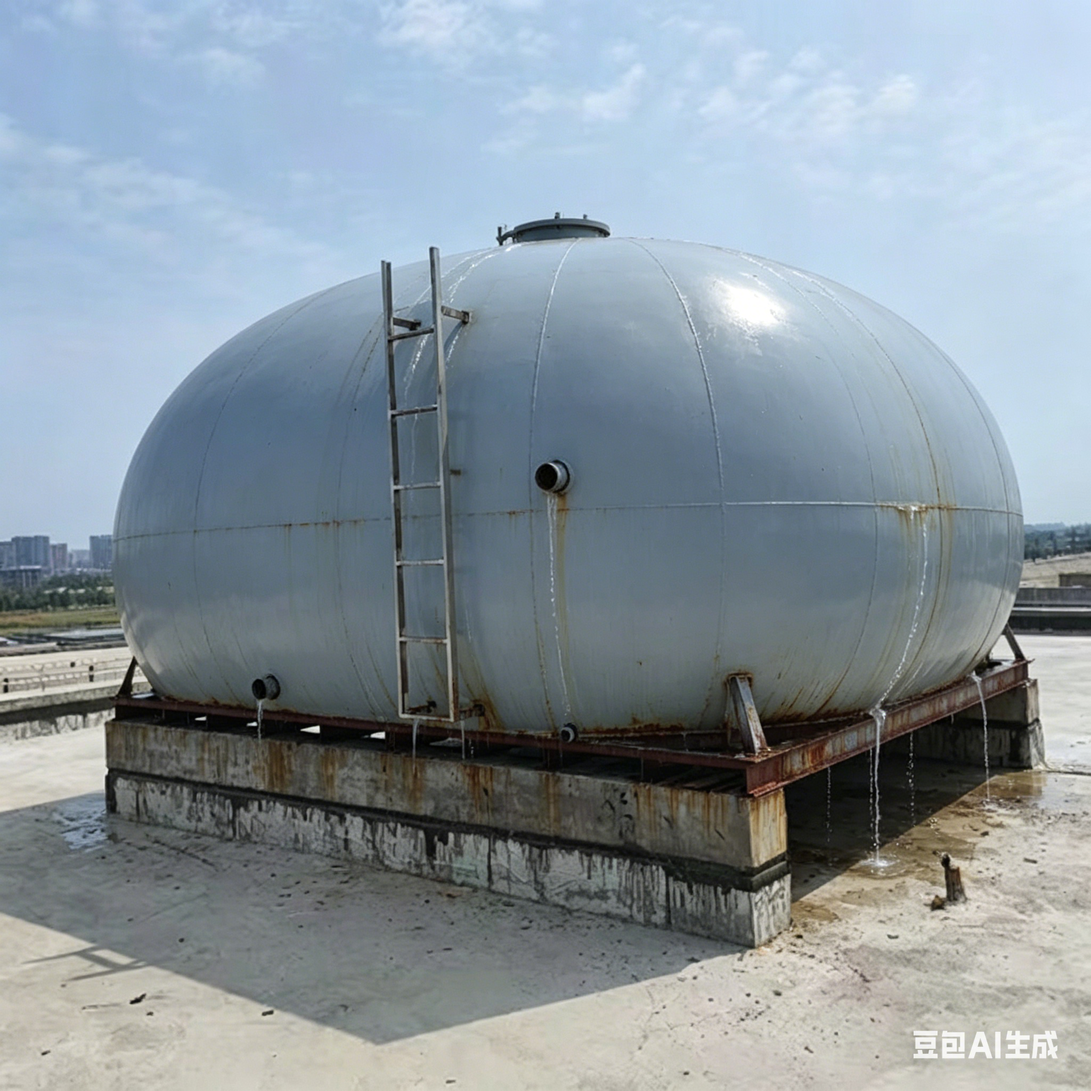Leakage: (854, 702, 1019, 864)
